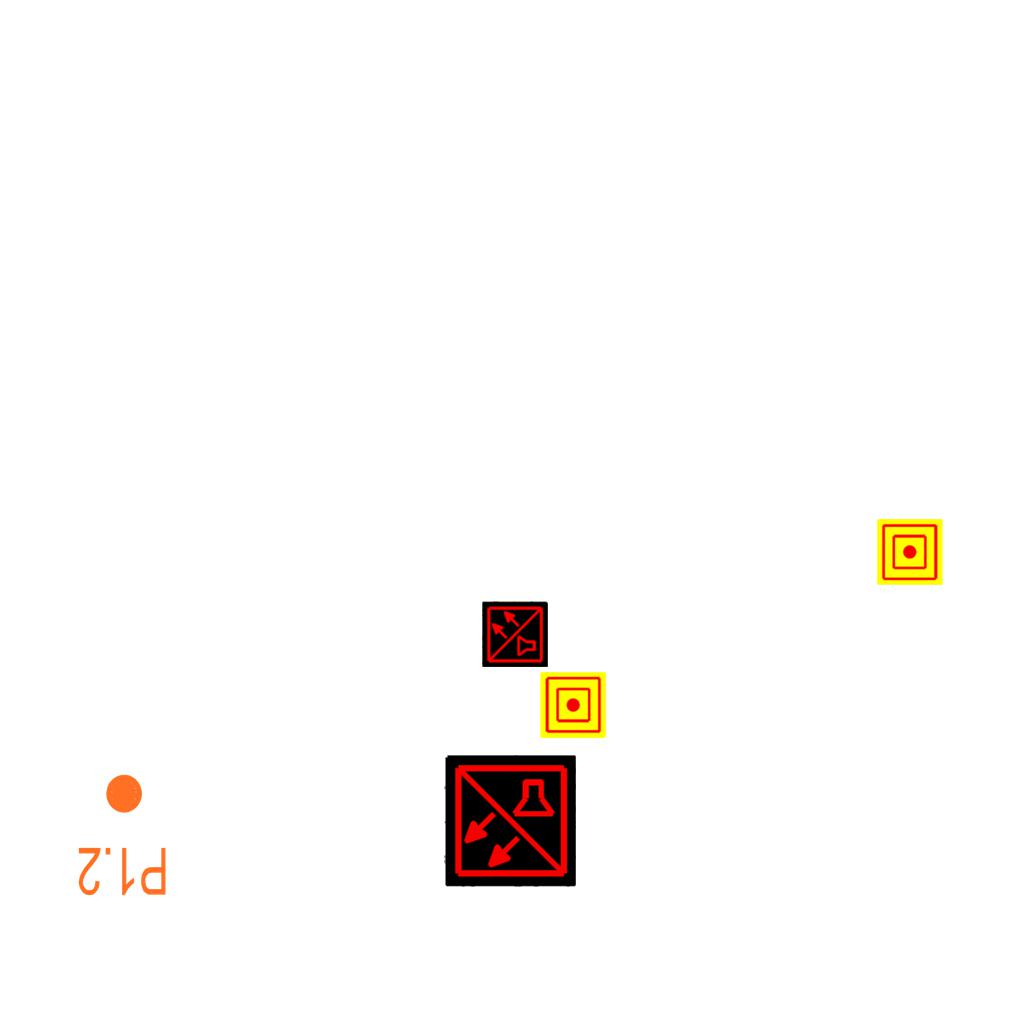Downlight_LED_Einbauleuchten_Flur: (76, 771, 169, 899)
NAM-Nichtautomatischer_Melder: (877, 519, 943, 585), (540, 672, 606, 738)
OKW_Multisensormelder_(Kombination_optischer_Rauch-Kahlenmonoxid_Waerme-Melder): (444, 755, 576, 887), (482, 601, 548, 667)
